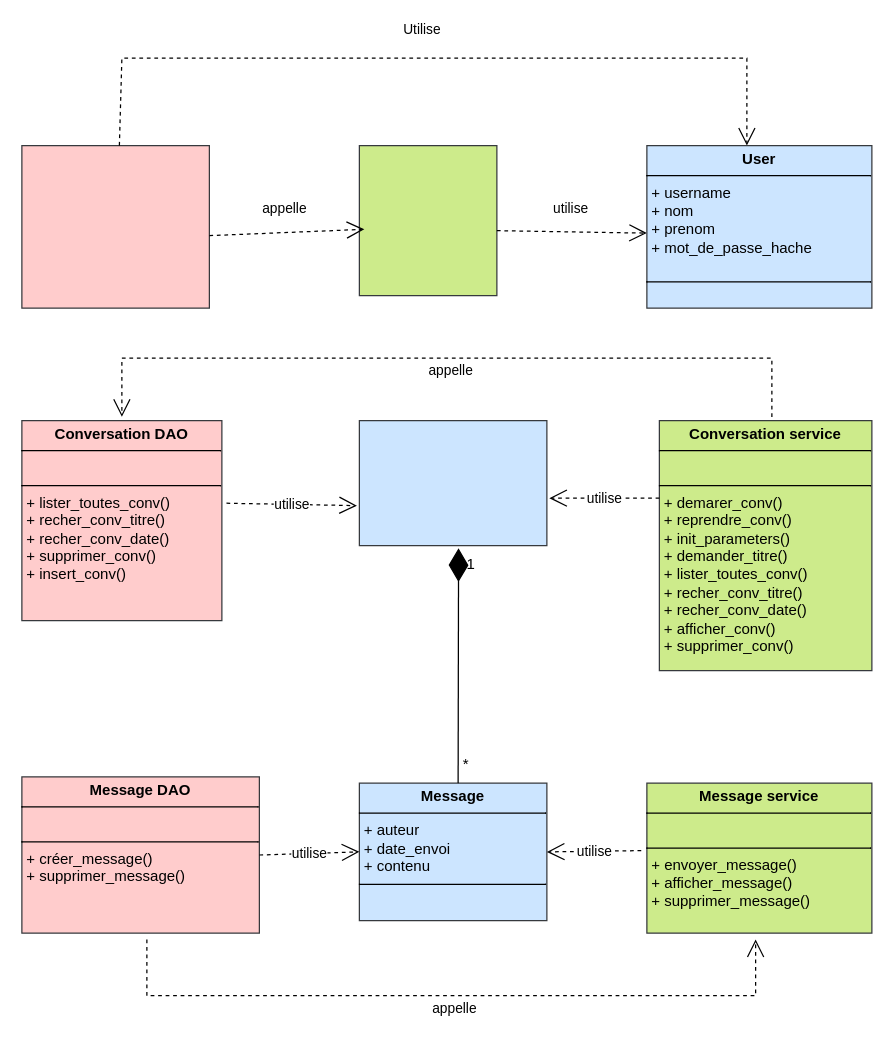
Some shapes in this 894 by 1038 pixel diagram are drawn without their labels. Each missing label, with the centre of its shape:
Conversation + titre +date_debut +date_fin: pixel 452 482
User DAO +cree_user() +modifier_user() +modifier_mdp(): pixel 115 226
User Service +cree_user() +authentification() +modifier_user() +modifier_mdp(): pixel 427 220
